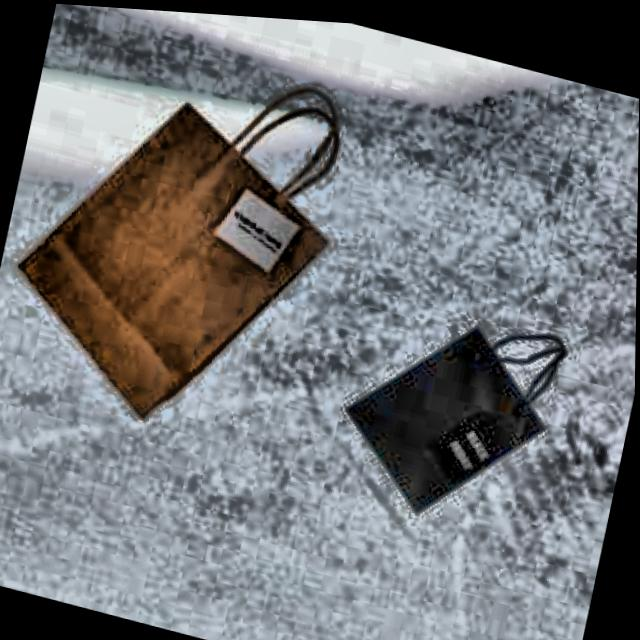Paper-bag: (0, 13, 368, 481), (329, 255, 591, 562)
